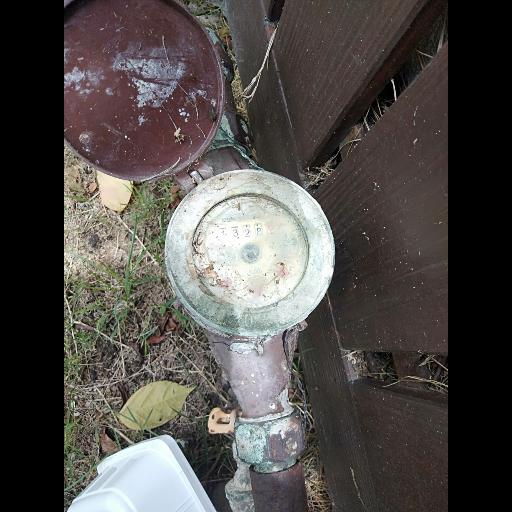1: (219, 228, 227, 242)
2: (243, 224, 252, 238)
3: (231, 227, 239, 240)
6: (265, 222, 275, 235)
8: (255, 224, 263, 237)
border_water_meter_number: (220, 221, 275, 242)
